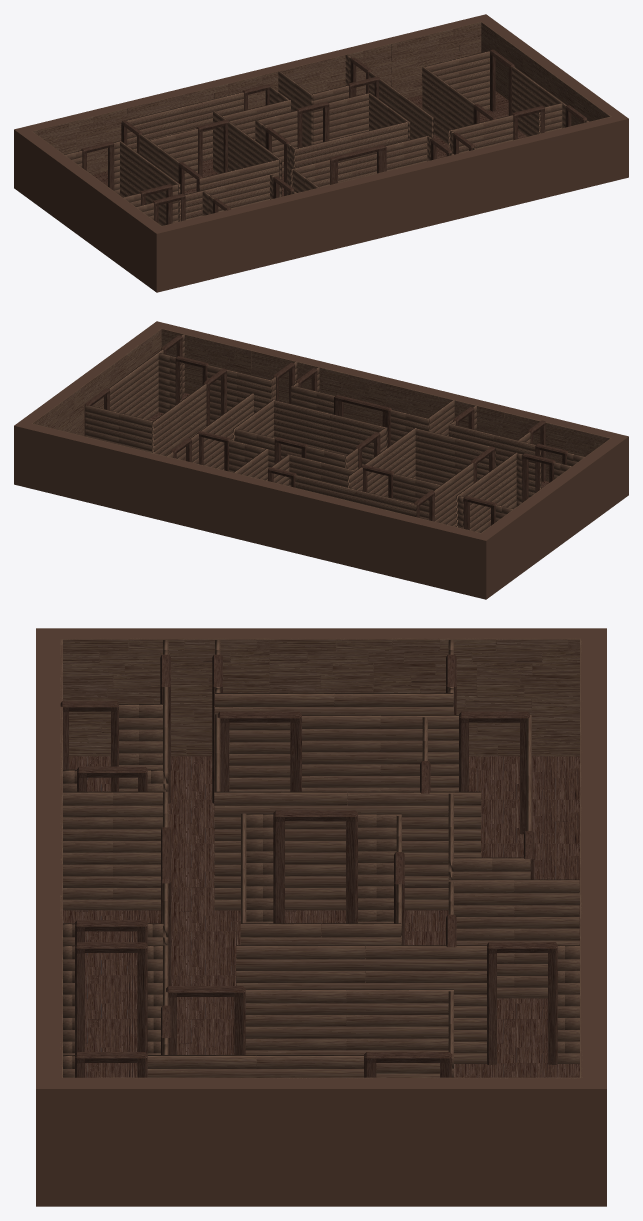
The model's file is cenario mansão.fbx.
The picture shows the model from 3 angles, top to bottom: view 1: azimuth 30°, elevation 25°; view 2: azimuth 150°, elevation 25°; view 3: azimuth 270°, elevation 25°; orthographic projection. The views are drawn at different scales.
Parts seen in each view (by area): view 1: Cube.052, Cube.053, Cube.051, parede4.026, parede4.034, parede4.018, parede1.004, parede4.036, parede4.019, parede4.030, parede4.002, parede3.003 (+37 smaller); view 2: Cube.051, Cube.053, parede4.026, Cube.052, parede4.031, parede4.018, parede4.036, parede4.016, parede4.019, parede4.030, parede4.014, parede4.020 (+38 smaller); view 3: Cube.054, parede4.030, Cube.051, Cube.052, parede4.018, parede4.020, parede4.007, parede4.032, parede1.011, parede4.023, parede4.036, parede3.012 (+46 smaller).
Boxes of the visible parts, x1,y1,x2,y2 form: Cube.052: (150, 114, 628, 292); Cube.053: (20, 131, 160, 287); Cube.051: (14, 14, 492, 192); parede4.026: (294, 121, 407, 182); parede4.034: (126, 92, 243, 160); parede4.018: (422, 66, 475, 144); parede1.004: (391, 34, 441, 97); parede4.036: (119, 141, 180, 225); parede4.019: (425, 51, 489, 110); parede4.030: (213, 111, 281, 197); parede4.002: (179, 174, 271, 221); parede3.003: (69, 109, 121, 174); Cube.051: (14, 421, 492, 599); Cube.053: (482, 438, 622, 594); parede4.026: (274, 400, 387, 465); Cube.052: (150, 321, 628, 499); parede4.031: (415, 428, 495, 484); parede4.018: (152, 384, 206, 460); parede4.036: (456, 452, 517, 532); parede4.016: (108, 349, 163, 419); parede4.019: (85, 405, 153, 452); parede4.030: (348, 427, 416, 497); parede4.014: (207, 365, 272, 423); parede4.020: (190, 393, 253, 470); Cube.054: (62, 1078, 580, 1206); parede4.030: (214, 791, 481, 910); Cube.051: (581, 628, 606, 1206); Cube.052: (36, 628, 61, 1206); parede4.018: (245, 989, 453, 1077); parede4.020: (236, 945, 486, 1063); parede4.007: (63, 791, 162, 910); parede4.032: (302, 715, 458, 803); parede1.011: (465, 638, 580, 756); parede4.023: (449, 879, 579, 998); parede4.036: (214, 693, 453, 791); parede3.012: (63, 638, 193, 756).
Size of the model in its own units: 4200 by 516 by 2200.
Materials: 7 (7 with a texture image).
